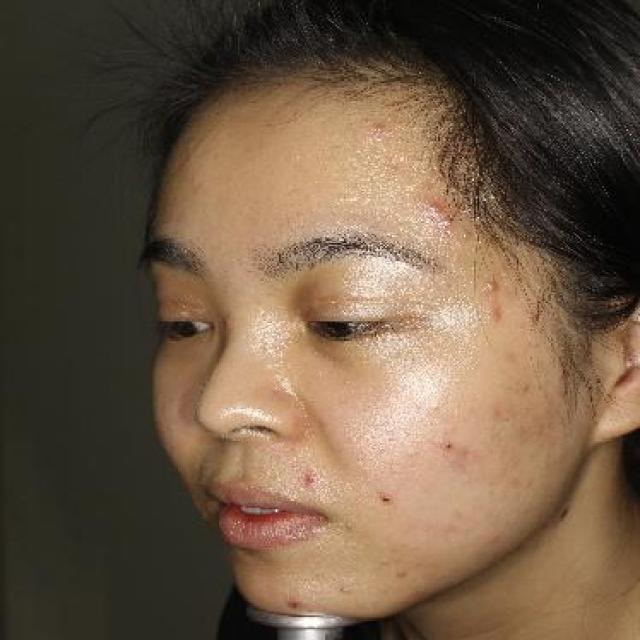blackheads: (436, 436, 469, 458), (371, 488, 402, 510), (302, 472, 324, 490), (286, 591, 308, 609)
papules: (433, 212, 471, 232), (482, 269, 504, 297)
pustules: (422, 200, 447, 217)
